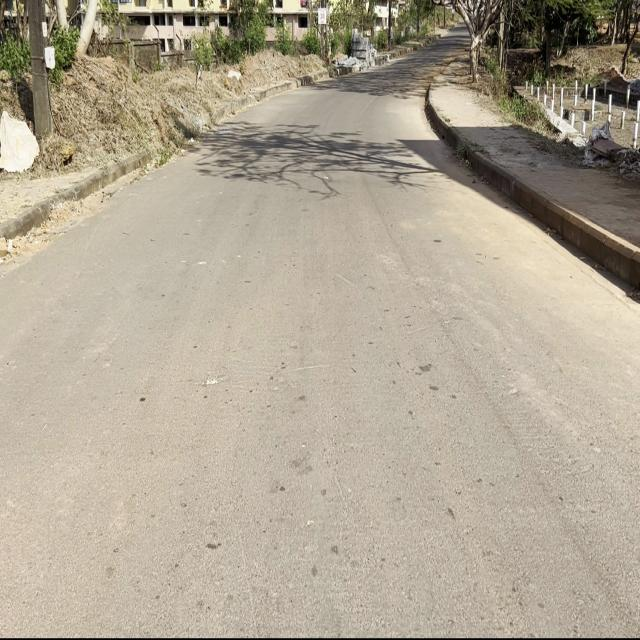Road: (0, 54, 640, 636)
